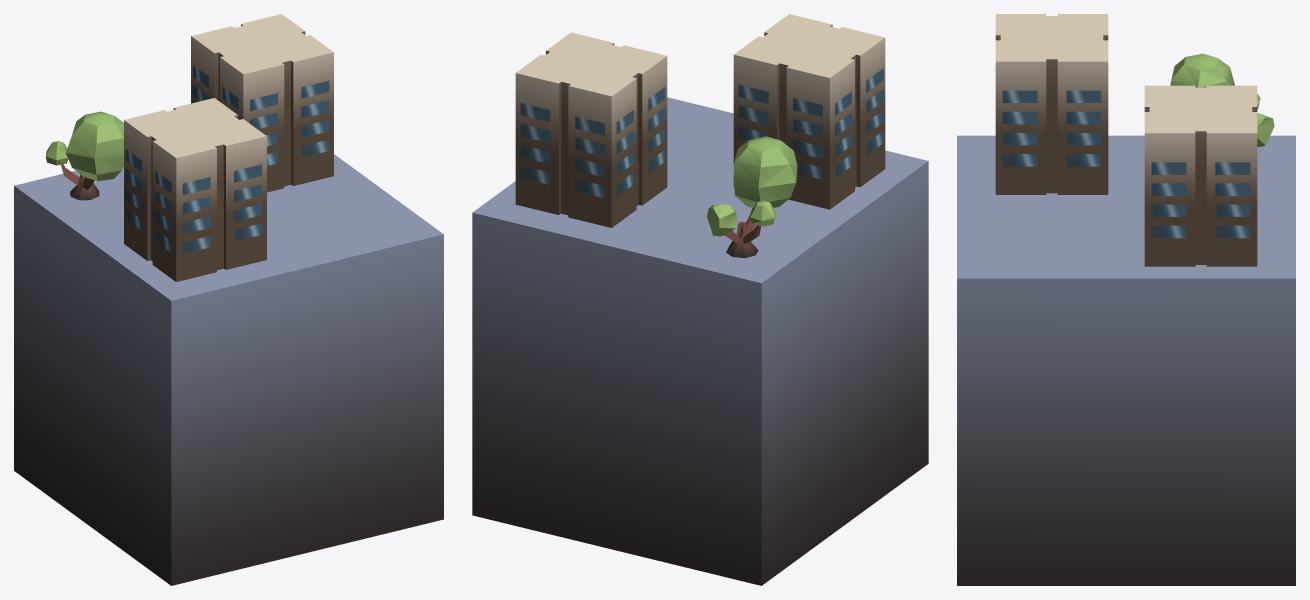
File: apartmenttile.fbx
3 renders of one model, left to right at view 1: azimuth 30°, elevation 25°; view 2: azimuth 150°, elevation 25°; view 3: azimuth 270°, elevation 25°, orthographic. The views are drawn at different scales.
Parts seen in each view (by area): view 1: geo_apartments; view 2: geo_apartments; view 3: geo_apartments.
Part boxes in pixels (left/top/right/bottom): geo_apartments: left=14, top=14, right=443, bottom=585; geo_apartments: left=472, top=14, right=928, bottom=585; geo_apartments: left=957, top=14, right=1295, bottom=585.
Size of the model in its own units: 80 by 115 by 80.
